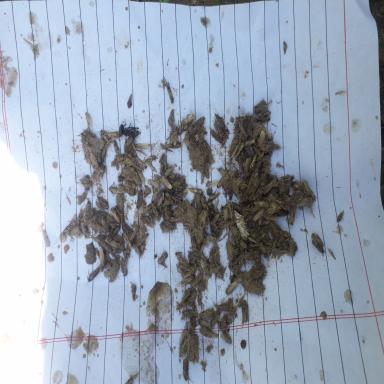pbw: (162, 75, 174, 104), (249, 229, 272, 244), (86, 263, 102, 284), (182, 357, 194, 383), (188, 116, 206, 133), (90, 164, 107, 182), (303, 180, 317, 201), (174, 296, 192, 312), (259, 155, 272, 176), (131, 141, 149, 156), (199, 326, 219, 339), (218, 314, 234, 330), (207, 126, 222, 143), (309, 230, 324, 247), (106, 224, 121, 241), (166, 125, 178, 146), (158, 176, 176, 190), (202, 142, 214, 163), (130, 167, 142, 188), (122, 244, 130, 274), (179, 329, 187, 358), (241, 300, 249, 329), (233, 143, 245, 162), (263, 178, 276, 195), (89, 152, 100, 172), (151, 182, 161, 204), (214, 113, 226, 131), (62, 221, 76, 236), (165, 162, 180, 176), (104, 131, 123, 142), (176, 276, 195, 287), (163, 141, 182, 152), (108, 184, 124, 197), (184, 134, 197, 150), (222, 216, 238, 229), (210, 310, 222, 327), (227, 302, 237, 322), (187, 184, 207, 194), (267, 140, 287, 150), (248, 176, 259, 194), (187, 289, 198, 307), (212, 301, 230, 312), (197, 274, 208, 292), (278, 181, 292, 195), (312, 240, 326, 254), (220, 328, 232, 344), (98, 240, 114, 252), (228, 138, 238, 157), (110, 207, 121, 224), (174, 251, 188, 264), (225, 281, 238, 295), (190, 273, 203, 287), (76, 207, 86, 224), (278, 175, 295, 185), (132, 242, 142, 259), (135, 157, 148, 170), (84, 207, 97, 220), (198, 318, 212, 330), (141, 214, 153, 228), (252, 208, 264, 222), (116, 194, 124, 215), (136, 169, 147, 184), (104, 238, 119, 249), (41, 229, 50, 247), (288, 206, 296, 226), (130, 225, 140, 241), (198, 309, 214, 319), (221, 128, 229, 148), (296, 198, 312, 208), (124, 183, 136, 196), (121, 225, 133, 238), (207, 190, 220, 202), (251, 268, 264, 280), (137, 233, 149, 246), (77, 190, 88, 204), (95, 199, 109, 210), (172, 177, 186, 188), (208, 244, 216, 263), (258, 129, 266, 148), (120, 256, 127, 277), (249, 154, 257, 172), (198, 126, 206, 144), (245, 174, 253, 192), (120, 233, 132, 245), (96, 193, 108, 205), (239, 252, 255, 261), (257, 244, 270, 255), (165, 192, 175, 206), (244, 206, 258, 216), (136, 189, 143, 209), (160, 220, 174, 230), (244, 157, 252, 174), (152, 205, 160, 222), (288, 238, 295, 257), (146, 160, 157, 172), (68, 225, 79, 237), (82, 142, 95, 152), (273, 209, 289, 217), (238, 120, 246, 136), (238, 196, 254, 204), (156, 192, 164, 208), (222, 173, 229, 191), (104, 252, 111, 270), (197, 248, 206, 262), (195, 193, 202, 211), (130, 162, 144, 171), (84, 112, 92, 127), (182, 288, 192, 300), (188, 254, 198, 266), (254, 99, 266, 109), (99, 246, 105, 266), (228, 201, 234, 221), (200, 195, 208, 210), (158, 252, 168, 264), (168, 109, 175, 126), (100, 218, 109, 231), (170, 193, 183, 202), (182, 309, 195, 318), (226, 241, 232, 260), (253, 200, 269, 207), (232, 228, 240, 242), (264, 213, 278, 221), (84, 174, 91, 190), (273, 247, 287, 255), (244, 212, 255, 222), (86, 214, 97, 224), (253, 189, 263, 200), (111, 253, 121, 264), (207, 202, 218, 212), (228, 264, 237, 276), (215, 262, 224, 274), (106, 215, 118, 224), (101, 144, 107, 162), (211, 213, 220, 225), (113, 234, 125, 243), (260, 173, 267, 188), (204, 164, 211, 179), (113, 139, 120, 154), (248, 242, 261, 250), (177, 263, 190, 271), (176, 188, 189, 196), (245, 146, 253, 159), (83, 130, 96, 138), (168, 172, 181, 180), (255, 250, 261, 267), (85, 201, 91, 218), (233, 202, 242, 213), (216, 176, 223, 190), (266, 181, 280, 188), (336, 210, 344, 222), (240, 178, 248, 190), (244, 115, 252, 127), (238, 156, 244, 172), (164, 204, 170, 220), (90, 234, 106, 240), (176, 184, 188, 192), (247, 120, 254, 133), (206, 181, 219, 188), (252, 144, 260, 155), (159, 157, 164, 174), (164, 216, 178, 222), (259, 110, 271, 117), (190, 194, 196, 208), (149, 214, 156, 226), (207, 234, 216, 243), (182, 271, 192, 279), (228, 174, 233, 190), (219, 166, 227, 176), (239, 239, 247, 249), (245, 138, 255, 146), (256, 151, 264, 161), (247, 236, 257, 244), (191, 239, 197, 252), (162, 153, 166, 172), (124, 139, 129, 154), (255, 116, 270, 121), (188, 251, 196, 260), (197, 292, 202, 306), (241, 114, 248, 124), (97, 210, 108, 216), (196, 259, 202, 270), (126, 137, 133, 146), (107, 221, 116, 228), (224, 209, 228, 224), (231, 278, 243, 283), (208, 210, 213, 222), (146, 155, 156, 161), (234, 120, 238, 134), (143, 204, 151, 211), (199, 244, 204, 255), (81, 222, 86, 233), (241, 152, 246, 162), (111, 158, 117, 166), (120, 212, 123, 228), (206, 236, 210, 248)
